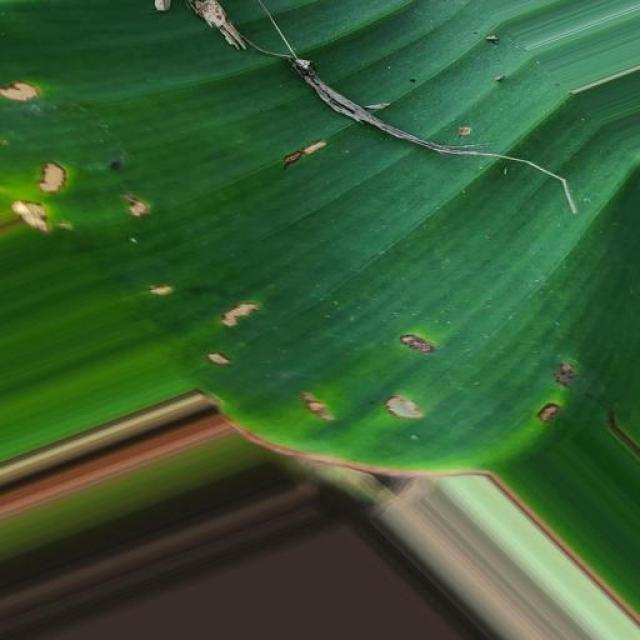Black_rot: (11, 158, 162, 250), (378, 327, 441, 438), (520, 339, 588, 431), (273, 372, 358, 442), (209, 286, 264, 380), (136, 268, 186, 312), (298, 127, 340, 178), (0, 70, 48, 114)
